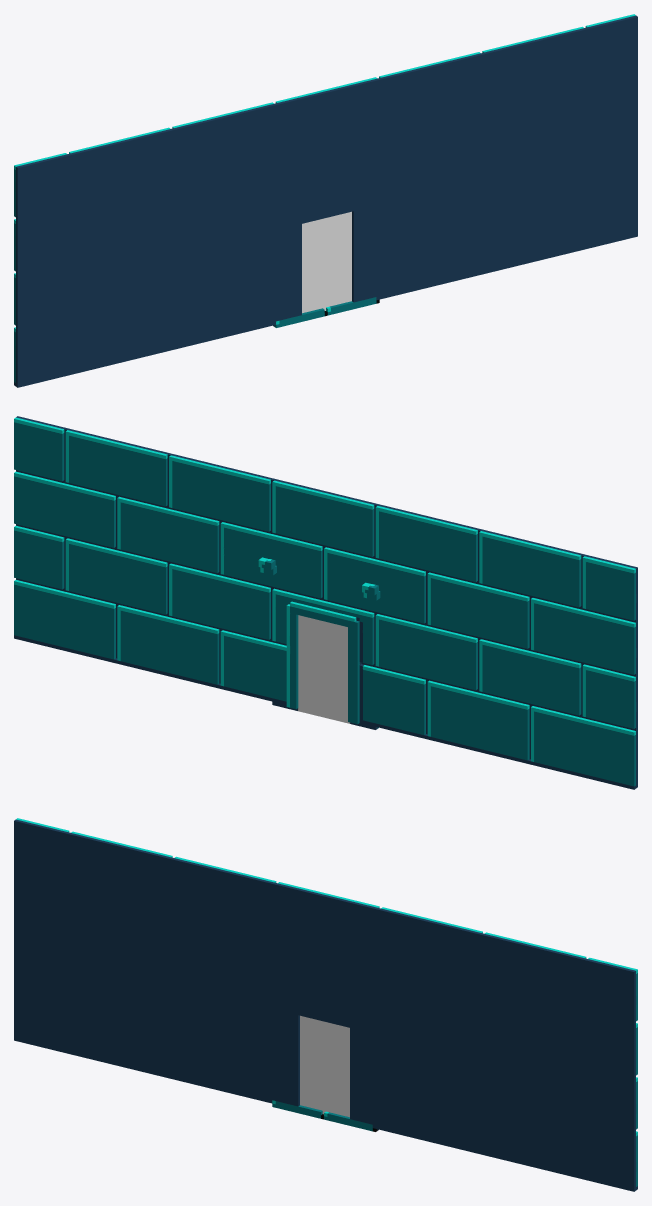
Rendered from EntranceDoor.glb.
The picture shows the model from 3 angles, top to bottom: view 1: azimuth 30°, elevation 25°; view 2: azimuth 150°, elevation 25°; view 3: azimuth 330°, elevation 25°; orthographic projection.
Parts seen in each view (by area): view 1: EntranceWall; view 2: EntranceWall; view 3: EntranceWall.
Part boxes in pixels (x1=…): EntranceWall: x1=14, y1=14, x2=637, y2=387; EntranceWall: x1=14, y1=416, x2=637, y2=789; EntranceWall: x1=14, y1=818, x2=637, y2=1191.
Size of what is drawn, in the model's own units: 19.2 by 6.6 by 0.6.
1 material, 1 textured.
